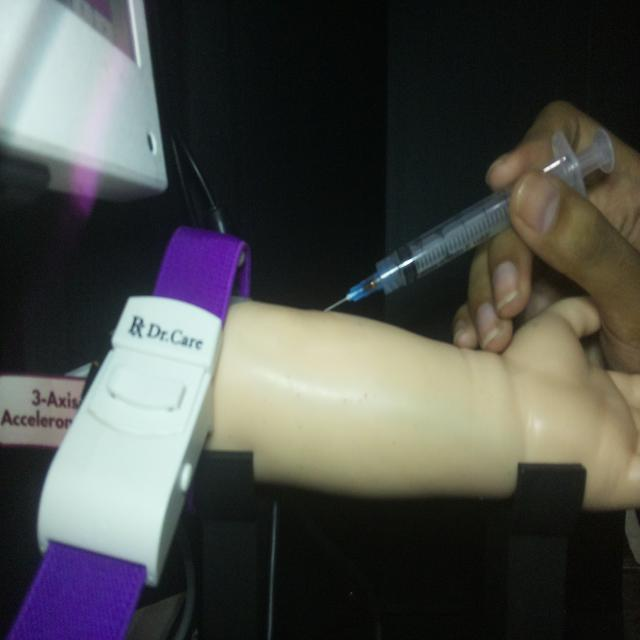20 degrees: (322, 124, 616, 314)
